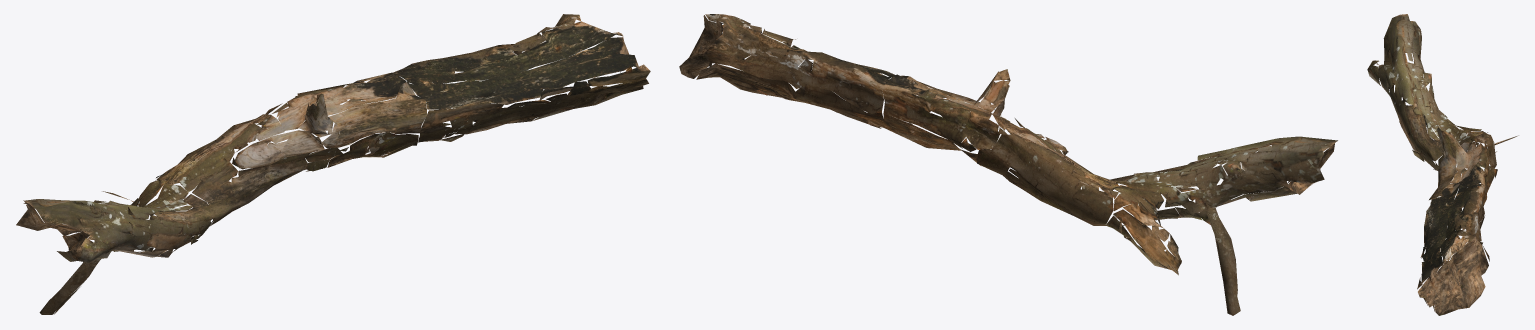
Rendered from log_a.glb.
3 views of the same model, side by side, from view 1: azimuth 30°, elevation 25°; view 2: azimuth 150°, elevation 25°; view 3: azimuth 270°, elevation 25° (orthographic). The views are drawn at different scales.
Visible parts, largest first — view 1: log_a; view 2: log_a; view 3: log_a.
Part boxes in pixels (x1,y1,x2,y2): log_a: (16,14,650,314); log_a: (679,14,1337,315); log_a: (1367,14,1518,315).
Size of the model in its own units: 4.5 by 1.17 by 1.15.
1 material, 1 textured.
